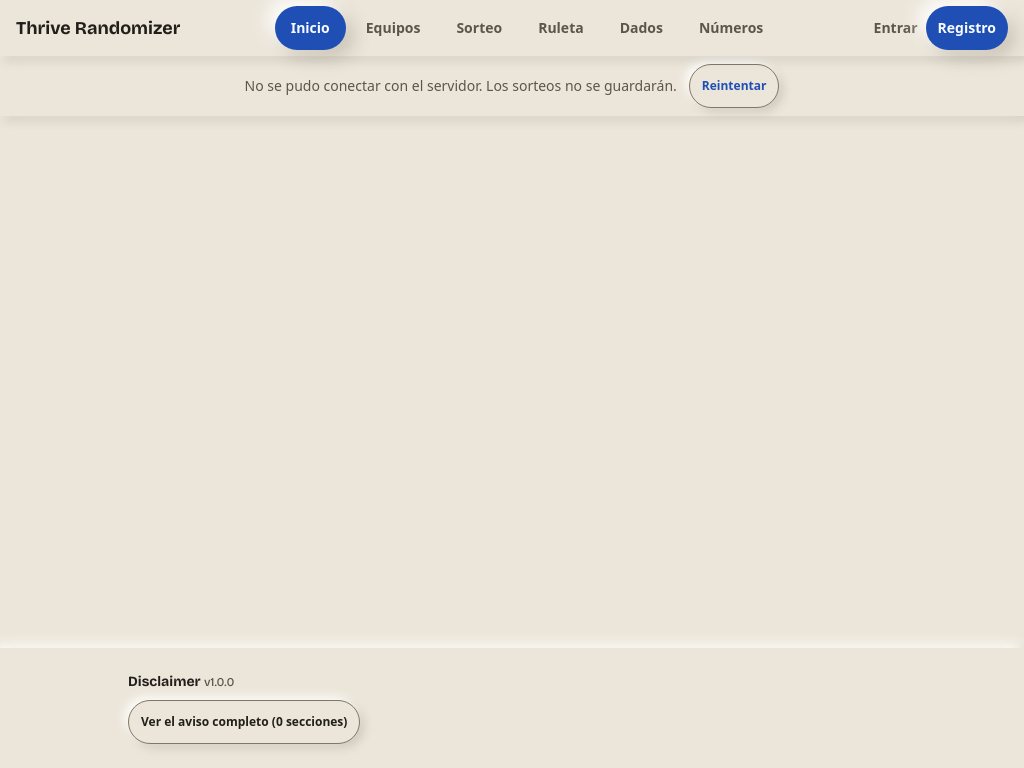
Scenario: RootLayout — indicador de conexión › el aviso desaparece tras un reintento exitoso
Expected: the message "No se pudo conectar con el servidor. Los sorteos no se guardarán. Reintentar" is shown, [0,56,1023,116]
Click the button "Reintentar".
click(734, 86)  # box [689,64,780,108]
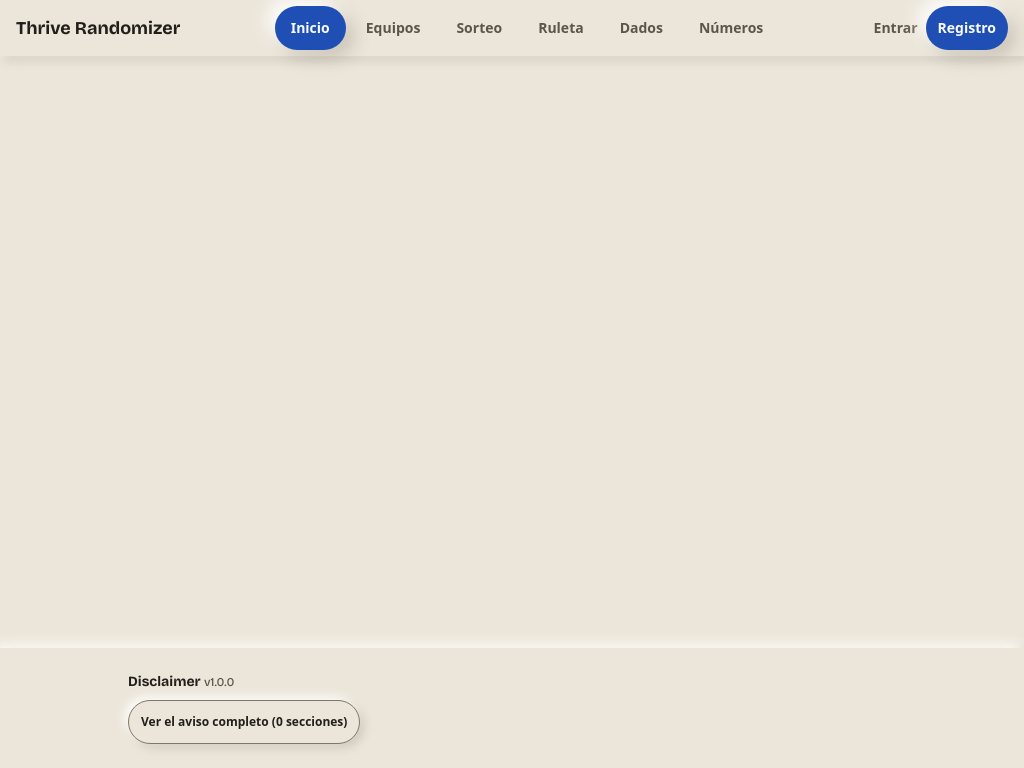
Expected: the message "No se pudo conectar con el servidor. Los sorteos no se guardarán. Reintentar" is gone
